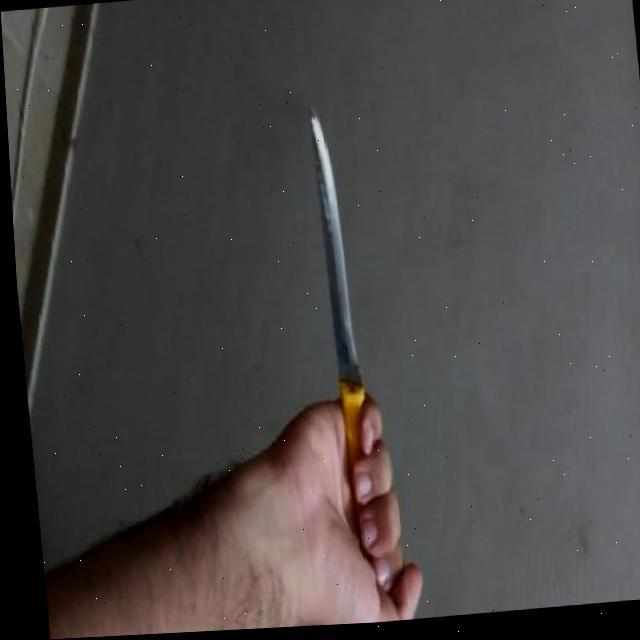knife: (300, 106, 366, 518)
